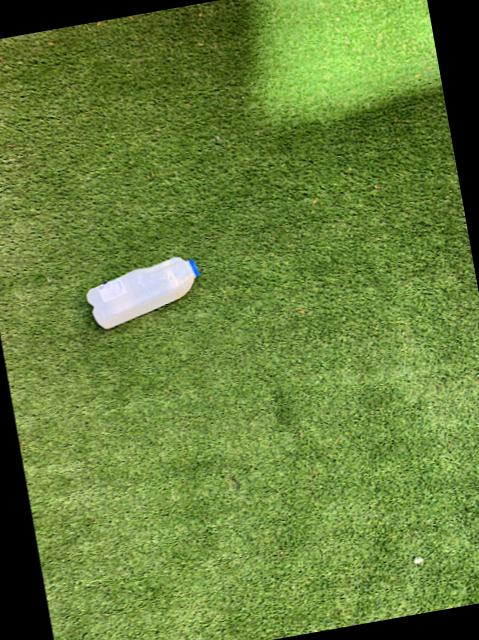plastic: (86, 255, 199, 326)
